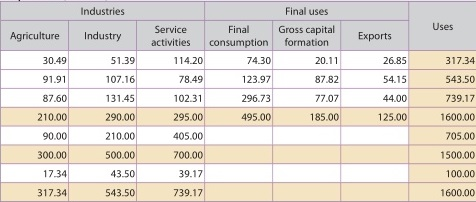column: (278, 1, 340, 202), (209, 2, 271, 202), (10, 1, 67, 202), (81, 2, 136, 202), (151, 1, 203, 202), (358, 1, 408, 202), (433, 1, 475, 202)
row: (1, 21, 476, 48), (1, 94, 476, 104), (1, 7, 475, 17), (1, 74, 475, 84), (2, 112, 476, 122), (1, 131, 475, 141), (1, 56, 476, 65), (1, 150, 476, 159), (1, 170, 476, 179), (1, 188, 476, 197)
